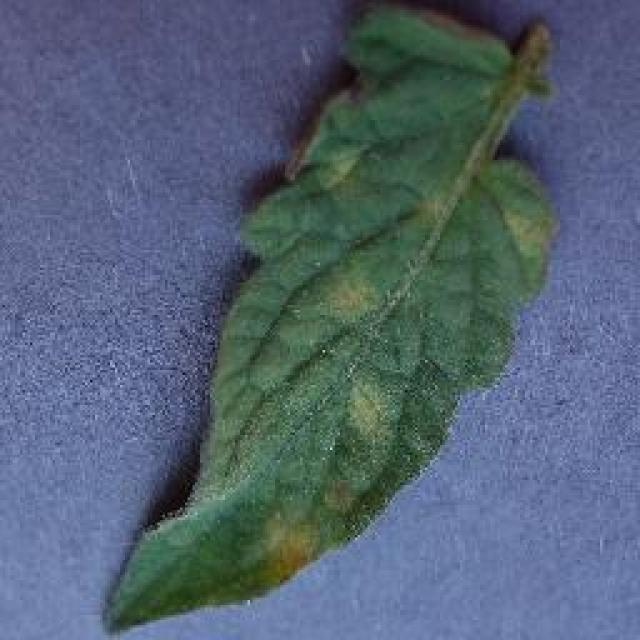leaf mold: (108, 0, 562, 627)
